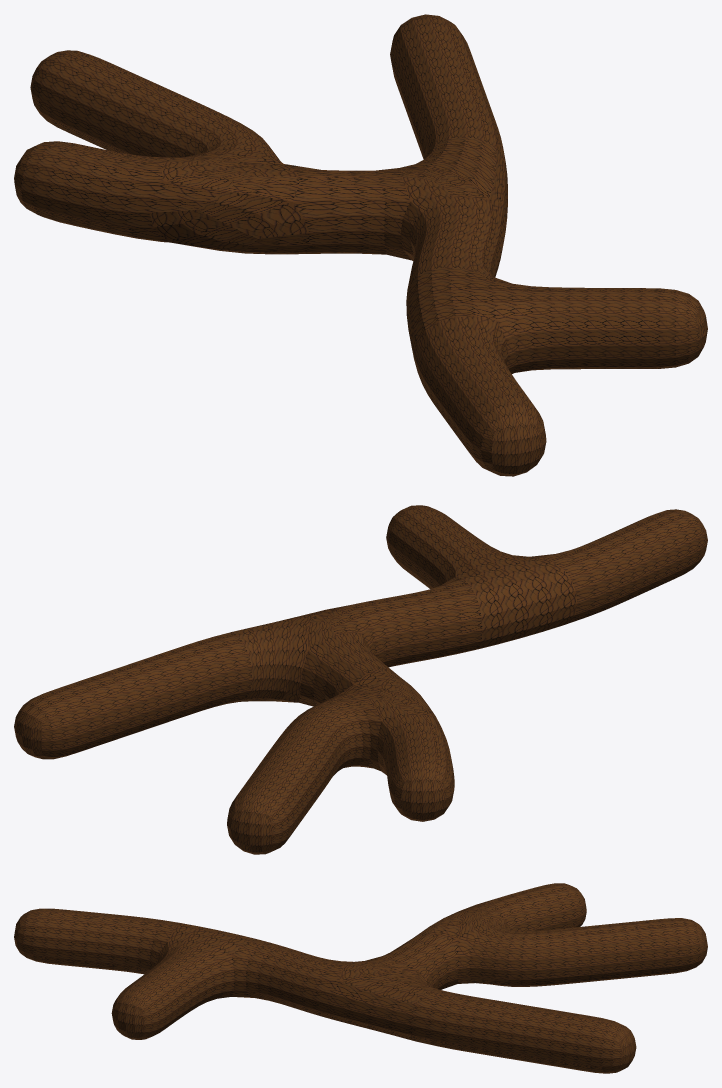
The model's file is Stick.fbx.
3 renders of one model, top to bottom at view 1: azimuth 30°, elevation 25°; view 2: azimuth 150°, elevation 25°; view 3: azimuth 270°, elevation 25°, orthographic. The views are drawn at different scales.
Parts seen in each view (by area): view 1: Cube; view 2: Cube; view 3: Cube.
Boxes of the visible parts, left/top/right/bottom form: Cube: left=14, top=14, right=707, bottom=476; Cube: left=14, top=505, right=707, bottom=854; Cube: left=14, top=883, right=707, bottom=1073.
Bounding box in the file's own units: 52.5 × 8.15 × 96.16.
